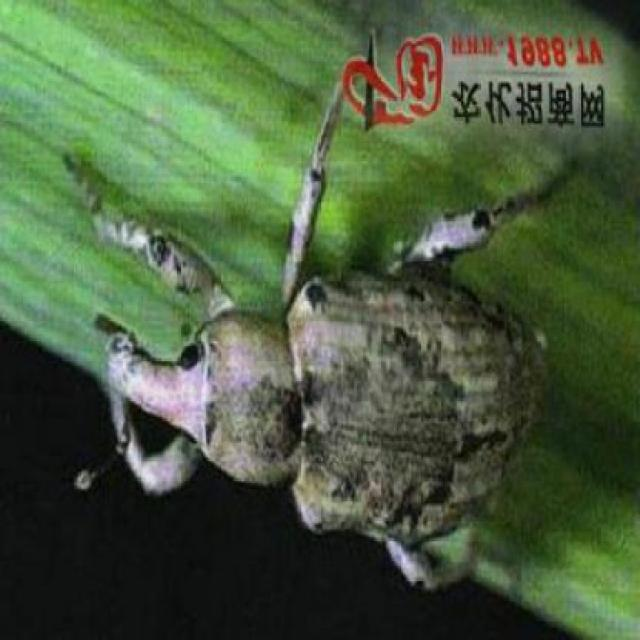rice-bug: (109, 232, 549, 526)
